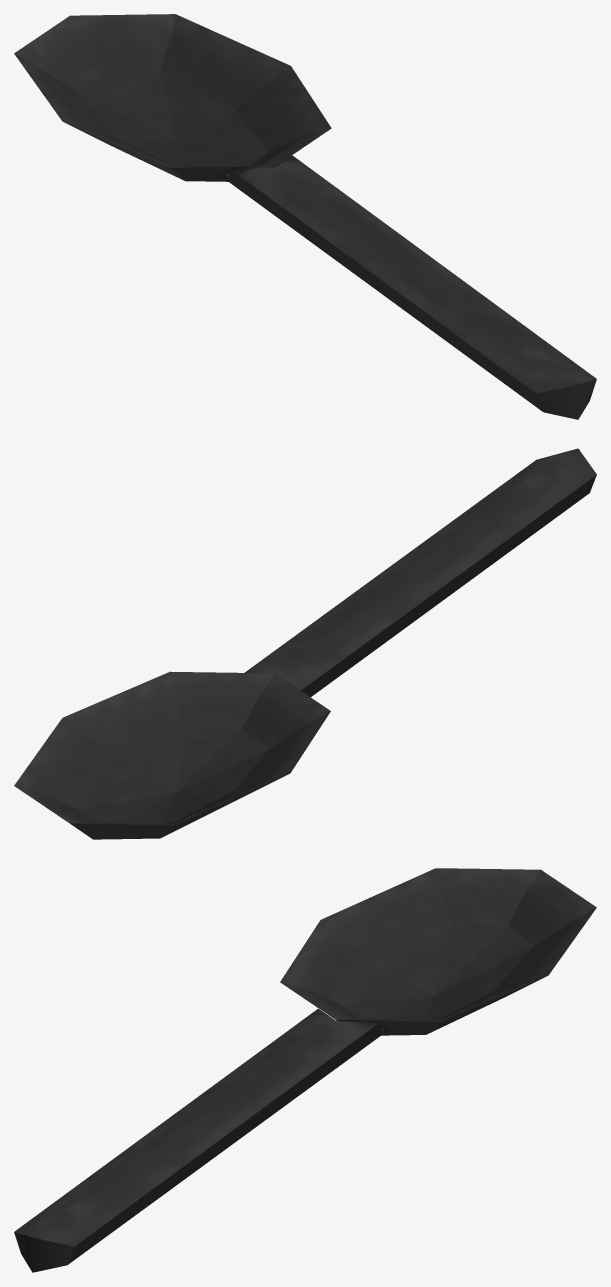
Rendered from Spoon.fbx.
The picture shows the model from 3 angles, top to bottom: view 1: azimuth 30°, elevation 25°; view 2: azimuth 150°, elevation 25°; view 3: azimuth 330°, elevation 25°; orthographic projection.
Visible parts, largest first — view 1: polySurface58; view 2: polySurface58; view 3: polySurface58.
Part boxes in pixels (x1=…): polySurface58: x1=14, y1=14, x2=596, y2=419; polySurface58: x1=14, y1=448, x2=596, y2=839; polySurface58: x1=14, y1=868, x2=596, y2=1272.
Bounding box in the file's own units: 26.39 × 6.73 × 102.
